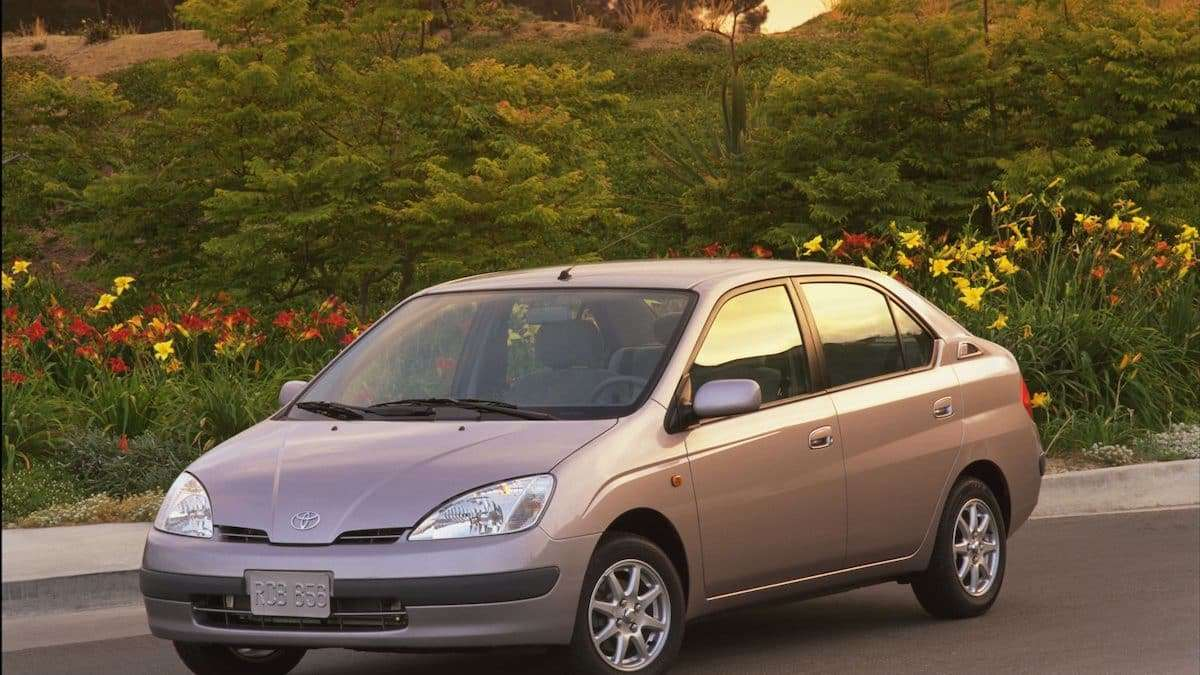Toyota Prius: (141, 257, 1045, 675)
